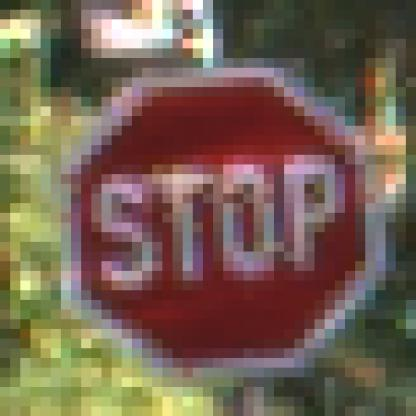stop: (52, 54, 389, 383)
